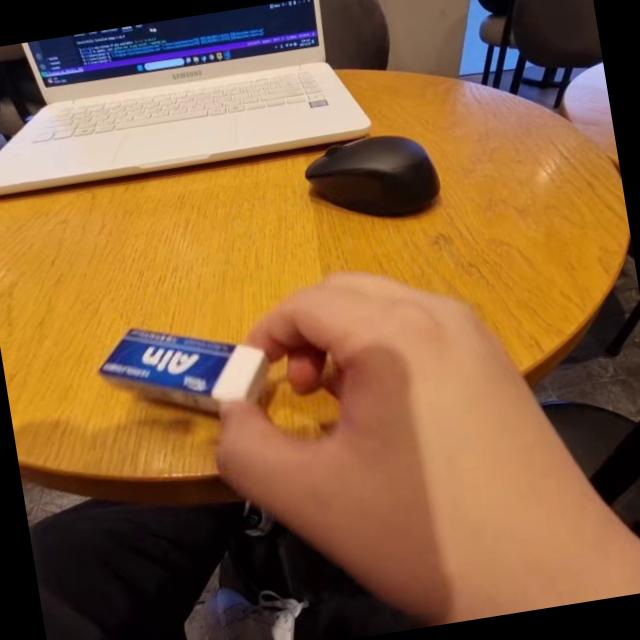eraser: (78, 291, 288, 429)
grab_eraser: (80, 232, 572, 582)
hand: (224, 253, 551, 562)
mouse: (282, 120, 451, 221)
